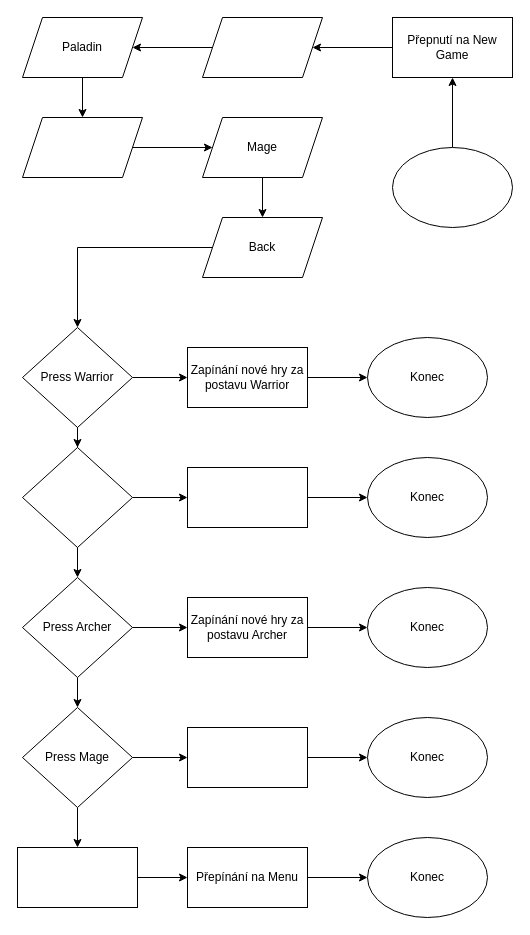
Some shapes in this 530 by 935 pixel diagram are drawn without their labels. The centre of each missing label's shape, as x and y in pixels:
"Archer" goes at point 82,147.
"Press Back" goes at point 77,877.
"Press Paladin" goes at point 77,497.
"Start" goes at point 452,187.
"Warrior" goes at point 262,47.
"Zapínání nové hry za postavu Mage" goes at point 247,757.
"Zapínání nové hry za postavu Paladin" goes at point 247,497.
